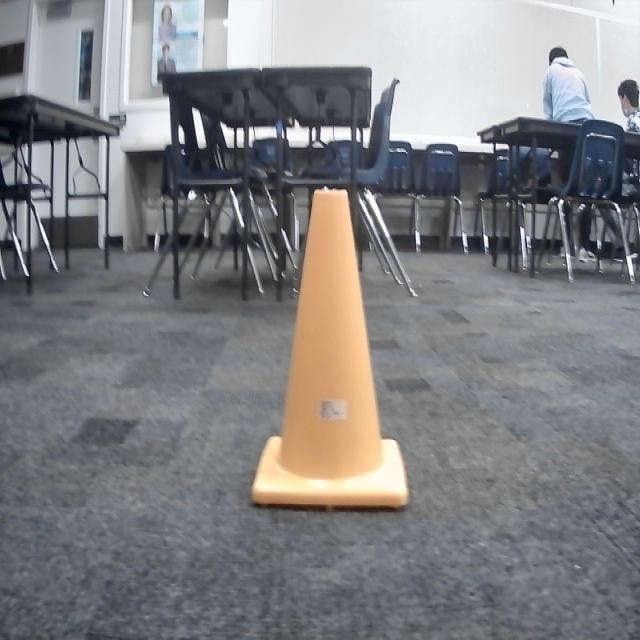cone: (250, 188, 410, 508)
